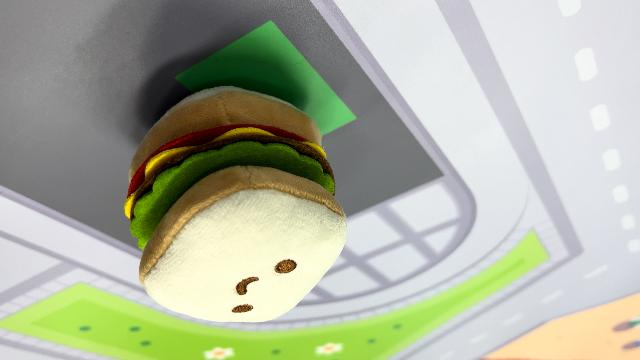sandwich: (122, 83, 350, 323)
